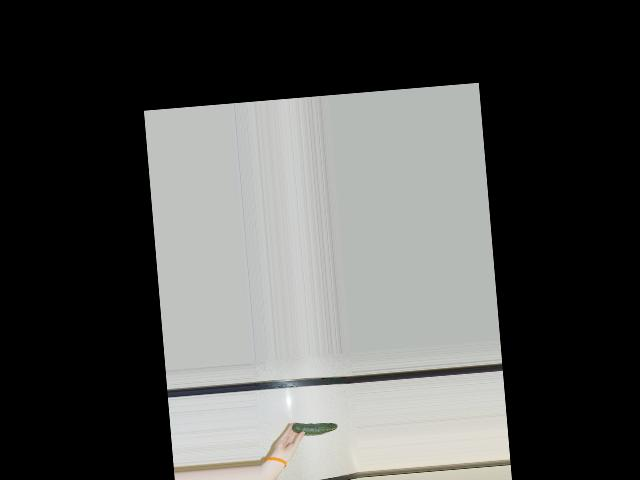cucumber: (291, 419, 338, 436)
